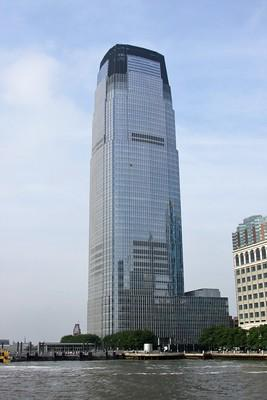building: (84, 40, 189, 353)
